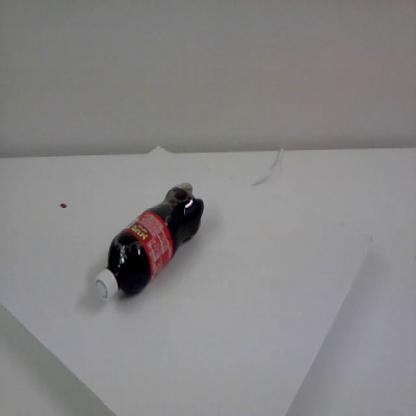bottle: (92, 176, 208, 310)
